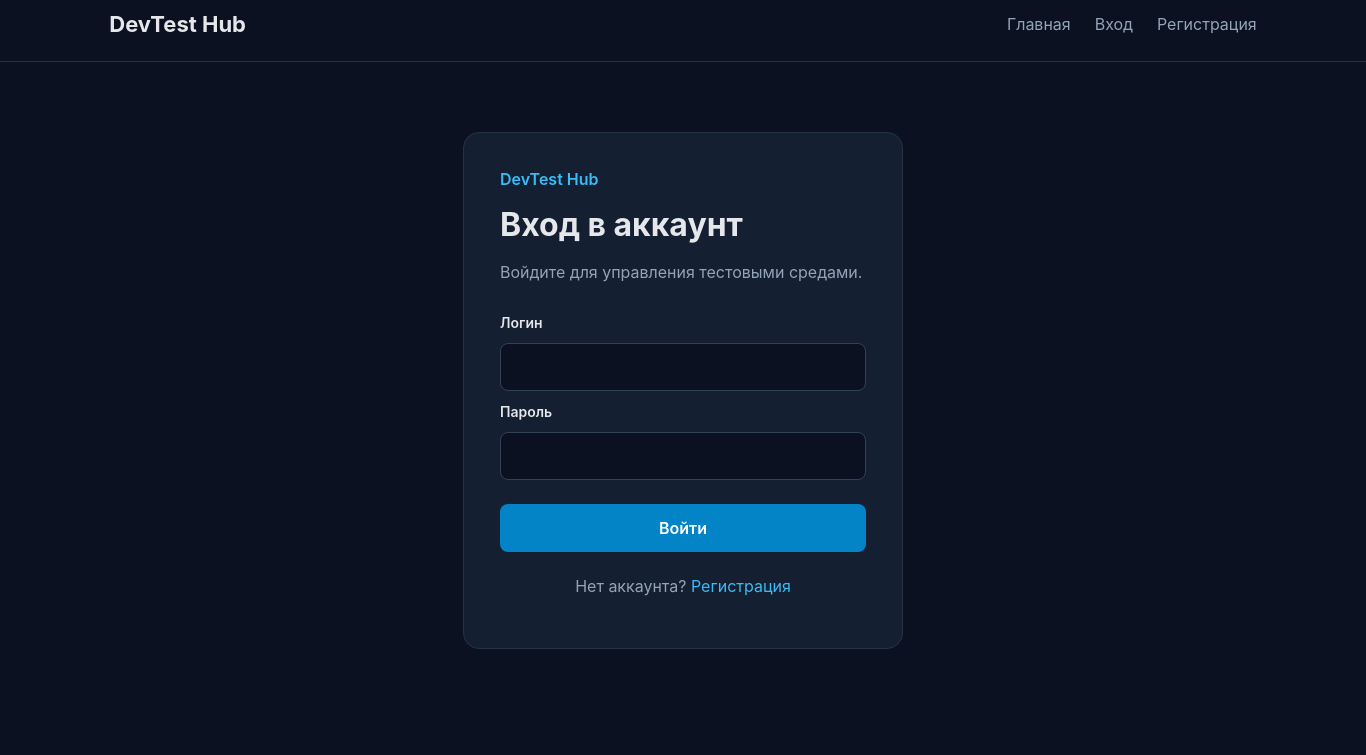
Scenario: Авторизация DevTest Hub › входит, открывает кабинет и выходит
Type "frontendtester" into the field labelled "Логин". click: (683, 367)
box: 500,343 -> 866,391
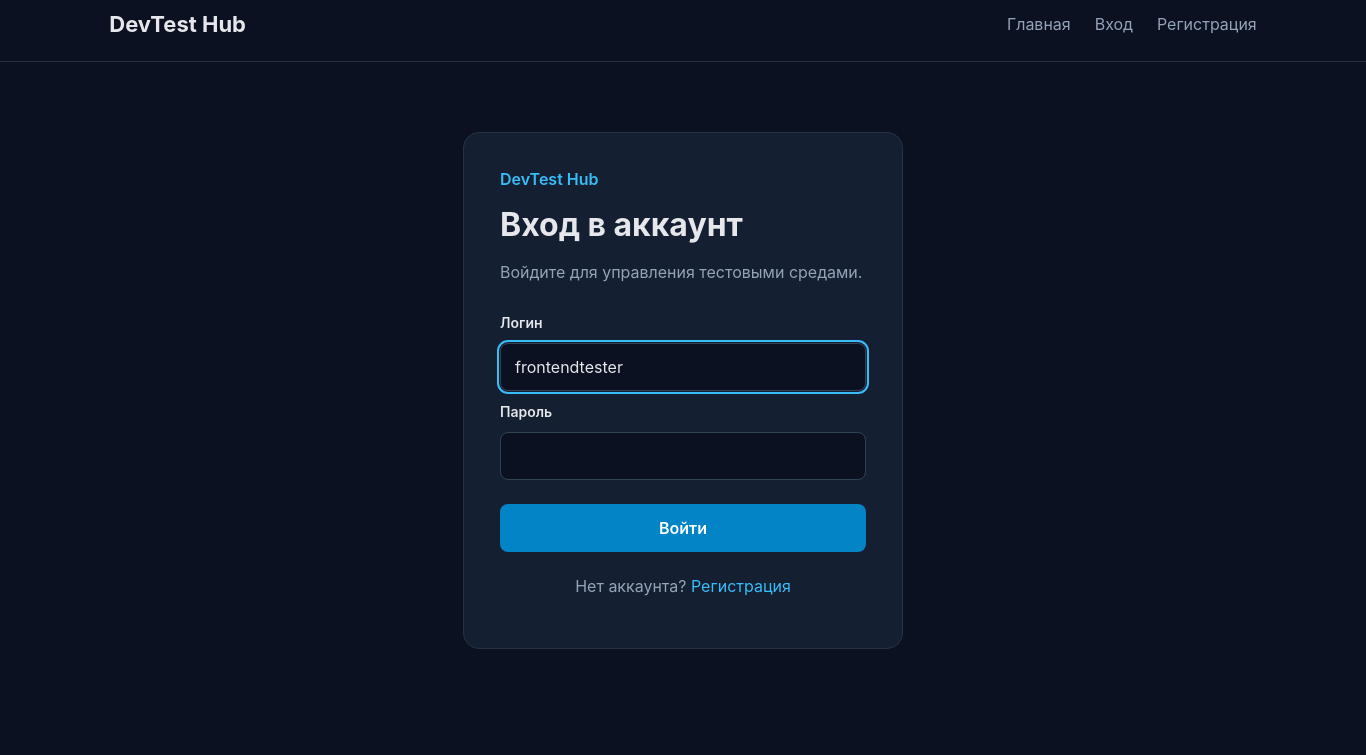
Type "test-password" into the password field labelled "Пароль". click: (683, 456)
box: 500,432 -> 866,480
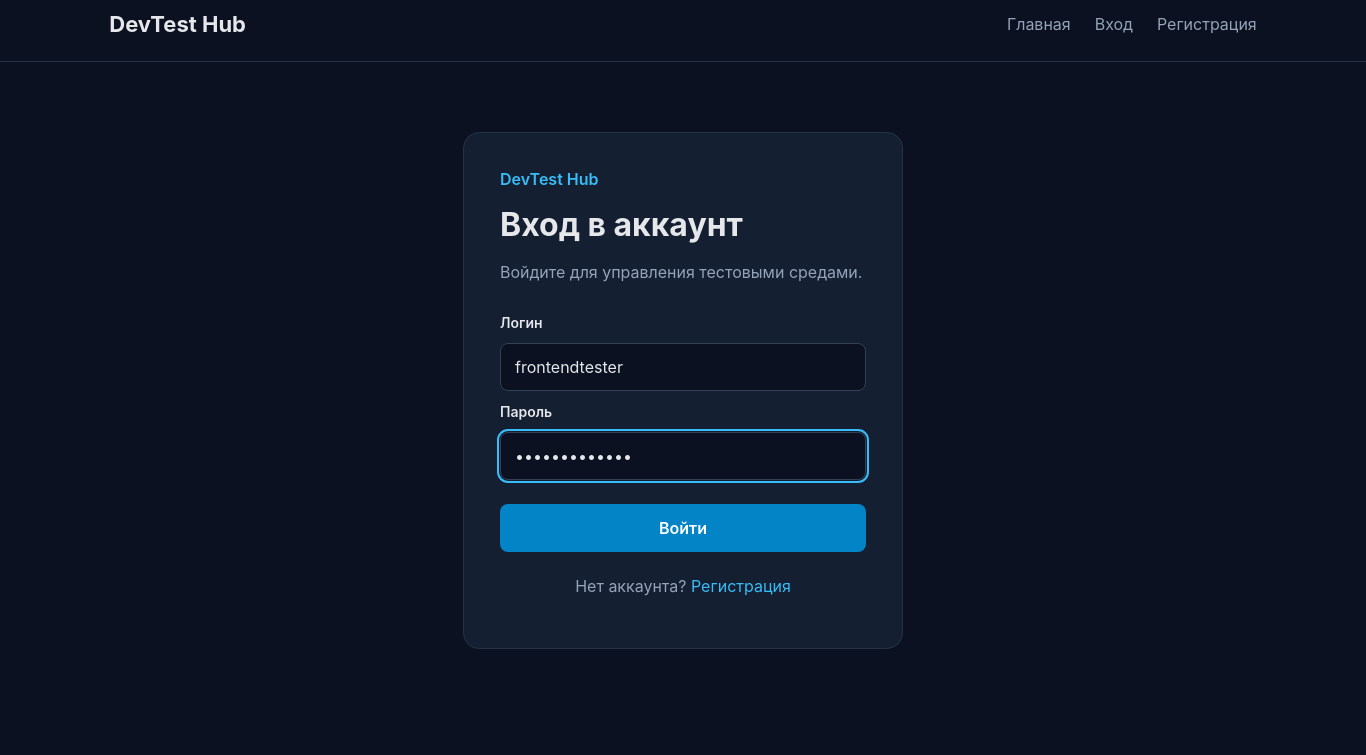
Click the button "Войти". click: (683, 528)
box: 500,504 -> 866,552
(page scrolled)
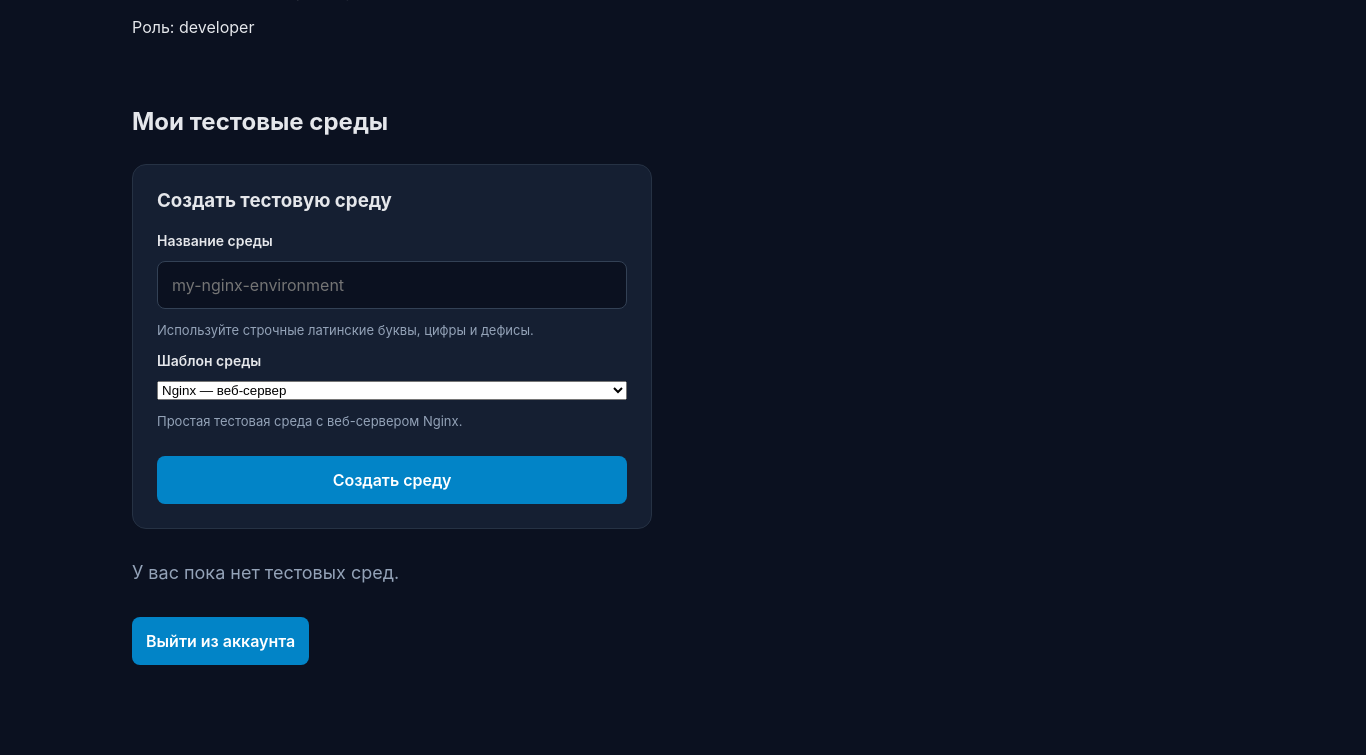
Click the button "Выйти из аккаунта". click: (221, 641)
box: 132,617 -> 309,665
(page scrolled)
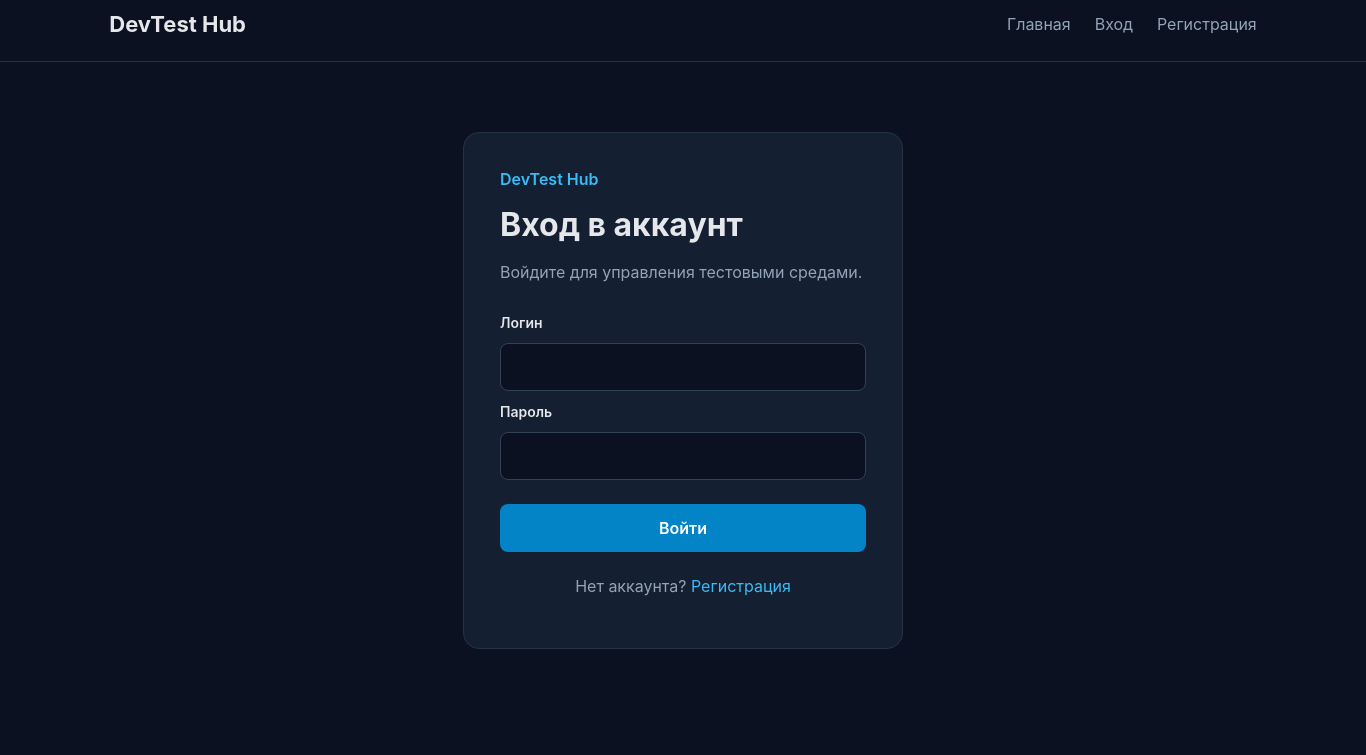
Check: the heading "Вход в аккаунт" is shown, box 500,205 -> 743,244
